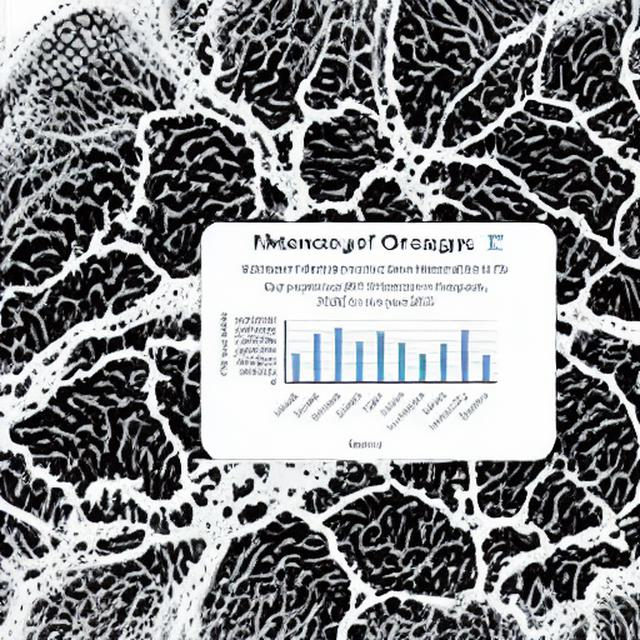Graph: (213, 275, 505, 455)
